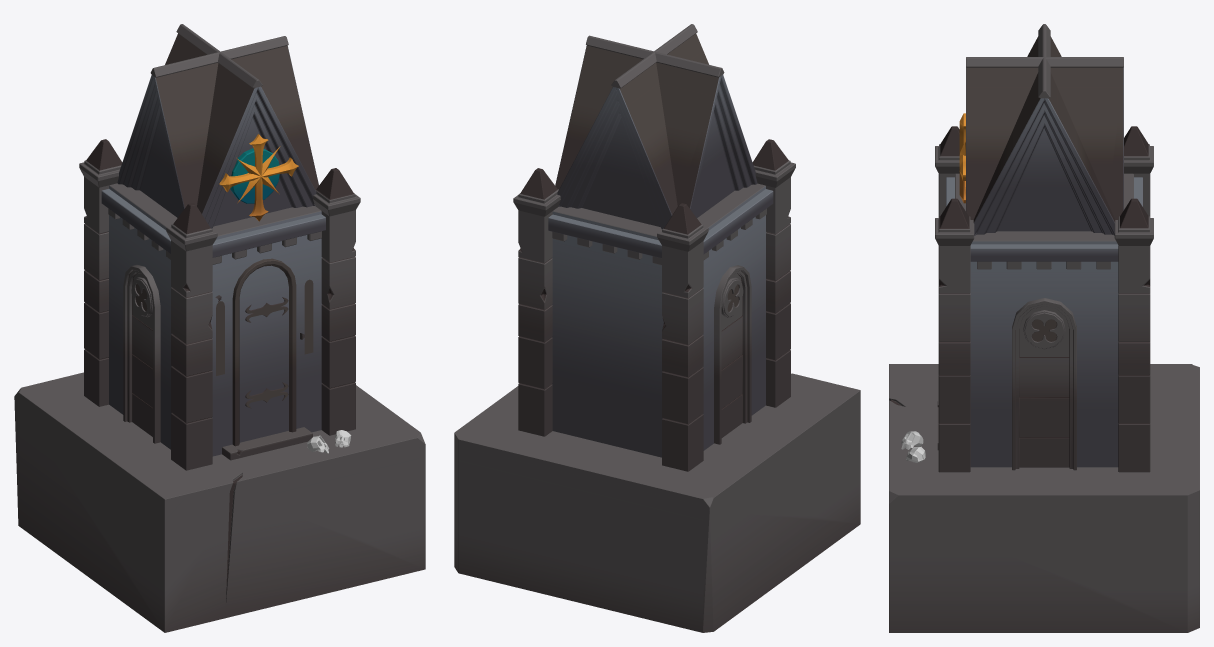
Rendered from Crypt_01_2.fbx.
The picture shows the model from 3 angles, left to right: view 1: azimuth 30°, elevation 25°; view 2: azimuth 150°, elevation 25°; view 3: azimuth 270°, elevation 25°; orthographic projection. The views are drawn at different scales.
Visible parts, largest first — view 1: Crypt_01_2; view 2: Crypt_01_2; view 3: Crypt_01_2.
Boxes of the visible parts, bbox=[...] form: Crypt_01_2: bbox=[14, 24, 425, 632]; Crypt_01_2: bbox=[454, 24, 860, 632]; Crypt_01_2: bbox=[889, 24, 1199, 632].
Bounding box in the file's own units: 600 × 1114 × 600.
